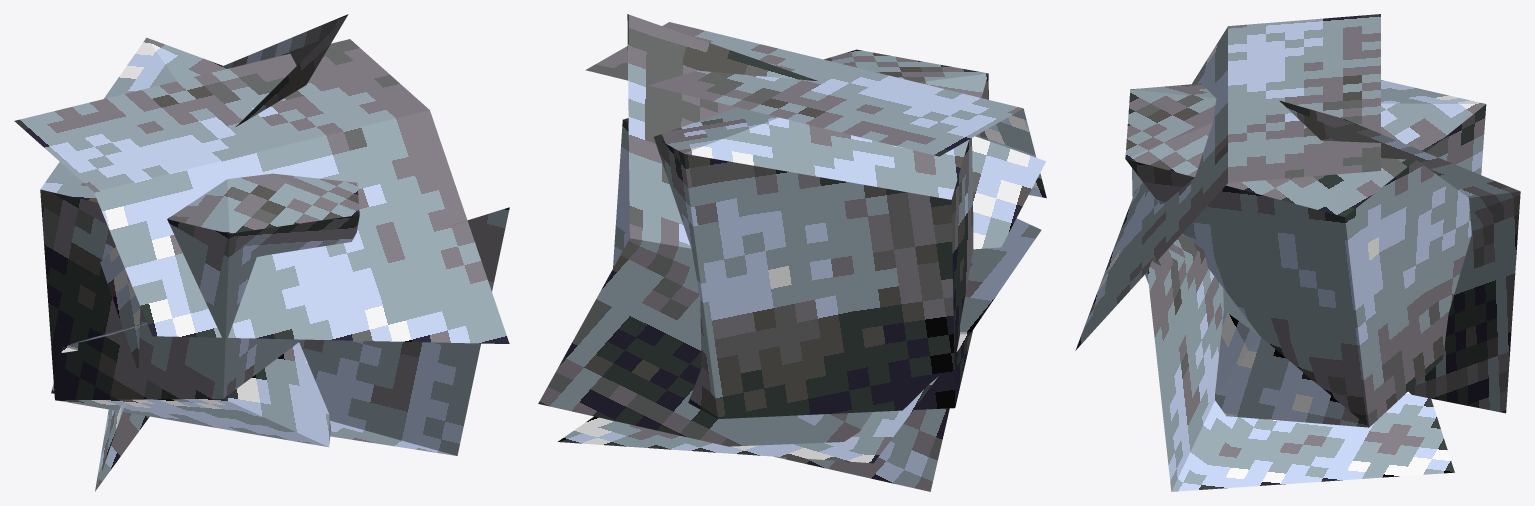
The model's file is BasuraBolaPapel_01.fbx.
3 views of the same model, side by side, from view 1: azimuth 30°, elevation 25°; view 2: azimuth 150°, elevation 25°; view 3: azimuth 270°, elevation 25° (orthographic). The views are drawn at different scales.
Parts seen in each view (by area): view 1: Sphere; view 2: Sphere; view 3: Sphere.
Boxes of the visible parts, x1,y1,x2,y2 form: Sphere: (14,14,509,491); Sphere: (538,14,1046,491); Sphere: (1075,14,1520,491).
Size of the model in its own units: 14.27 by 14.28 by 15.07.
